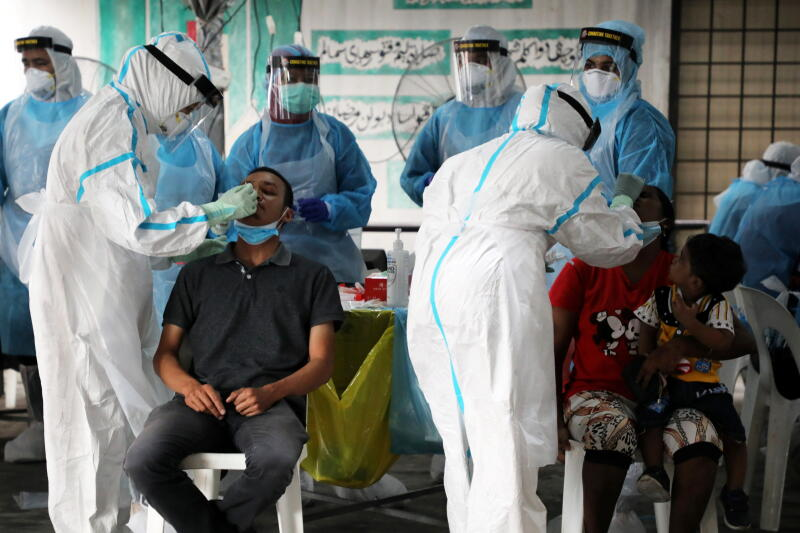Coverall: (398, 83, 635, 533), (16, 28, 222, 533)
Face_Shield: (444, 29, 523, 111), (568, 26, 639, 114), (156, 74, 224, 155), (257, 51, 327, 125), (10, 30, 76, 106)
Gloves: (204, 182, 259, 229), (608, 166, 641, 215), (292, 192, 330, 230)
mask_weared_incorrect: (235, 168, 291, 249)
with_mask: (580, 51, 624, 103), (275, 67, 319, 112), (18, 49, 54, 103), (164, 93, 204, 141), (456, 53, 489, 100)
without_mask: (664, 236, 703, 296)
